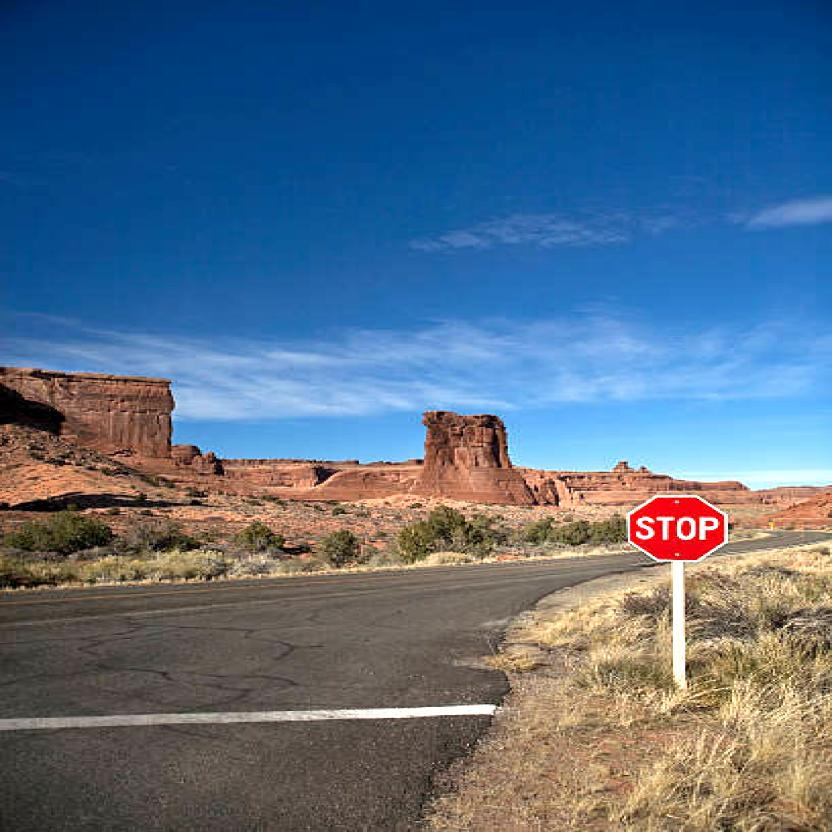Pole: (669, 563, 690, 686)
Sign: (628, 493, 730, 562)
